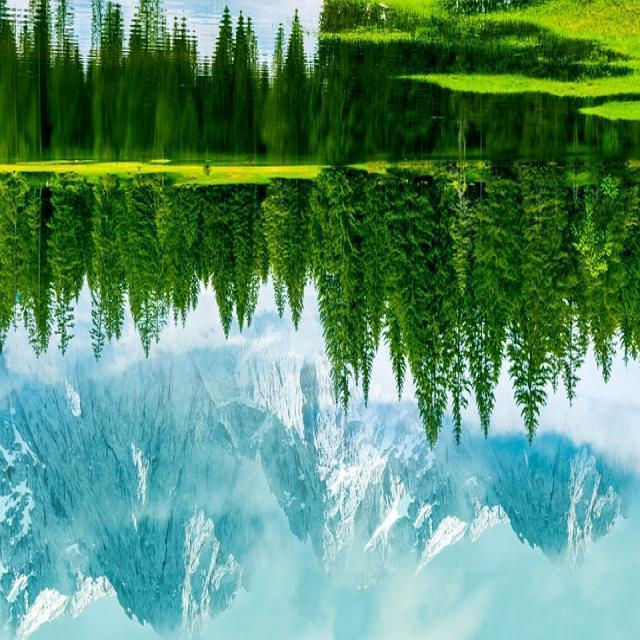tree: (505, 158, 567, 458), (399, 170, 453, 476), (459, 158, 509, 456), (580, 169, 626, 413), (126, 177, 170, 367), (262, 184, 310, 336), (48, 188, 84, 370), (90, 182, 124, 366), (202, 188, 240, 340), (360, 181, 388, 349), (324, 169, 356, 307), (322, 298, 352, 416), (385, 319, 407, 399), (358, 340, 374, 412)
